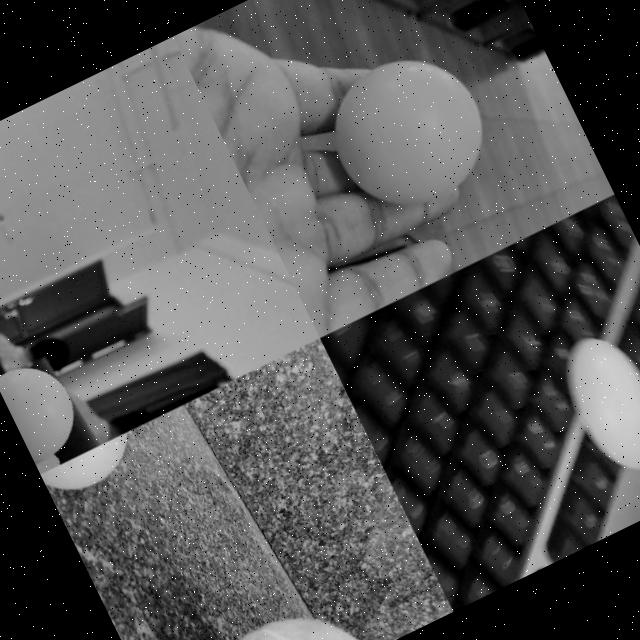ping-pong-ball: (309, 34, 506, 230), (549, 325, 640, 483), (0, 351, 88, 462), (39, 429, 147, 503)
